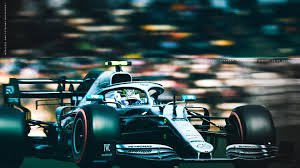FormulaOneCar: (1, 59, 283, 168)
